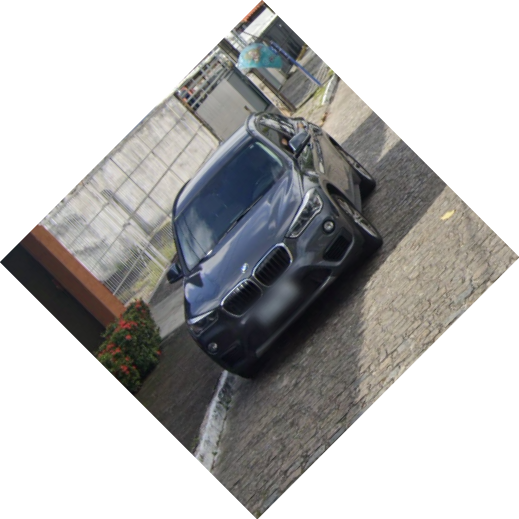car: (163, 110, 384, 381)
